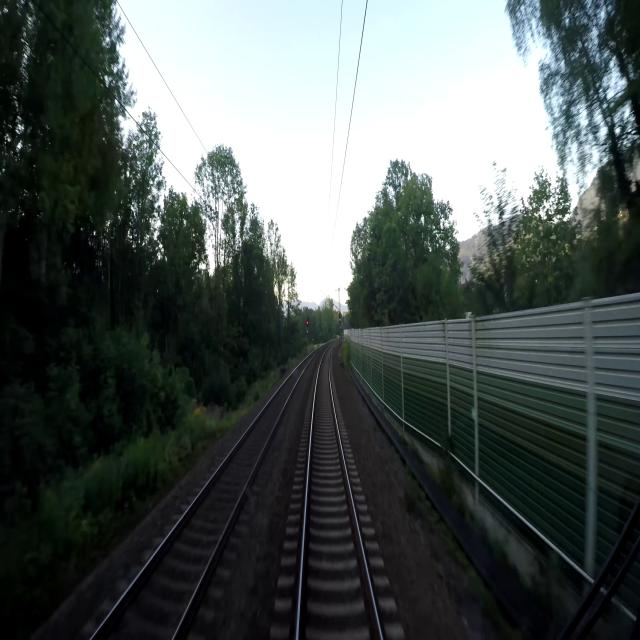rail-track: (95, 359, 308, 639), (300, 350, 379, 639)
